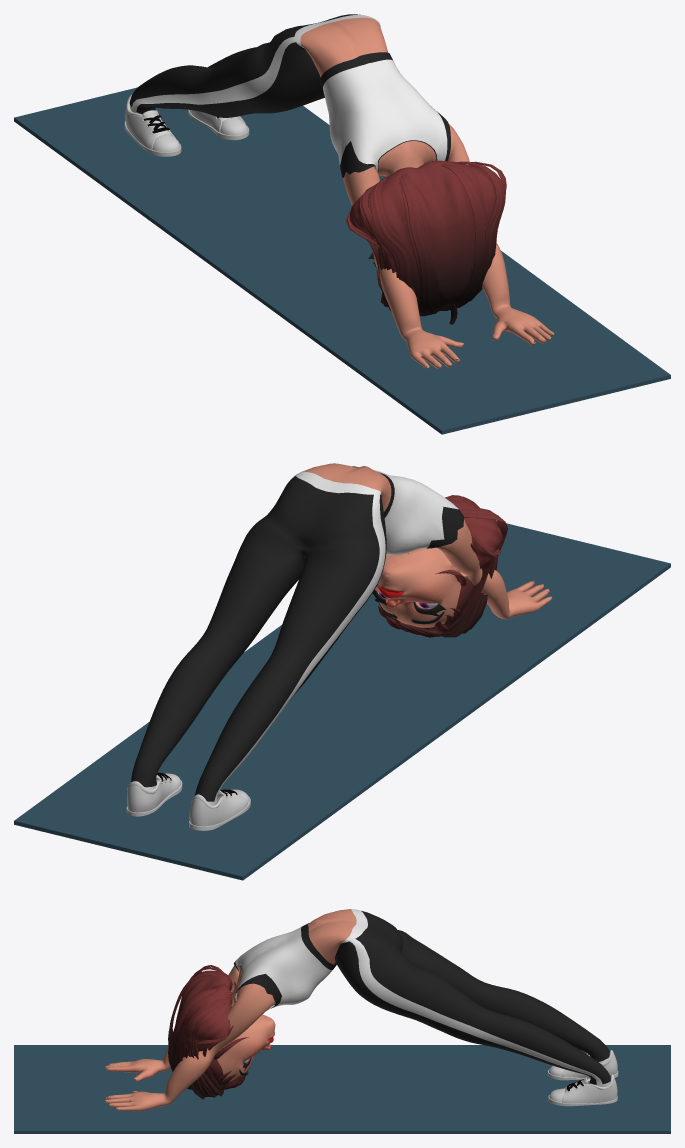
File: adhomukhasvanasana.glb
The picture shows the model from 3 angles, top to bottom: view 1: azimuth 30°, elevation 25°; view 2: azimuth 150°, elevation 25°; view 3: azimuth 270°, elevation 25°; orthographic projection. The views are drawn at different scales.
Visible parts, largest first — view 1: Cube, hair, base, BOT, TOP, shoes; view 2: Cube, BOT, base, TOP, hair, shoes; view 3: Cube, BOT, base, hair, TOP, shoes.
Boxes of the visible parts, x1,y1,x2,y2 form: Cube: (14, 87, 670, 434); hair: (345, 160, 506, 324); base: (300, 17, 554, 368); BOT: (129, 14, 380, 117); TOP: (320, 52, 450, 177); shoes: (124, 93, 249, 156); Cube: (14, 521, 670, 880); BOT: (131, 471, 386, 805); base: (302, 463, 552, 627); TOP: (352, 466, 464, 555); hair: (378, 495, 507, 637); shoes: (126, 772, 250, 830); Cube: (14, 1045, 670, 1133); BOT: (335, 909, 610, 1086); base: (104, 909, 356, 1111); hair: (168, 965, 248, 1099); TOP: (234, 923, 336, 1009); shoes: (547, 1050, 618, 1106).
Size of the model in its own units: 4.93 by 4.61 by 15.97.
Materials: 11 (2 with a texture image).
